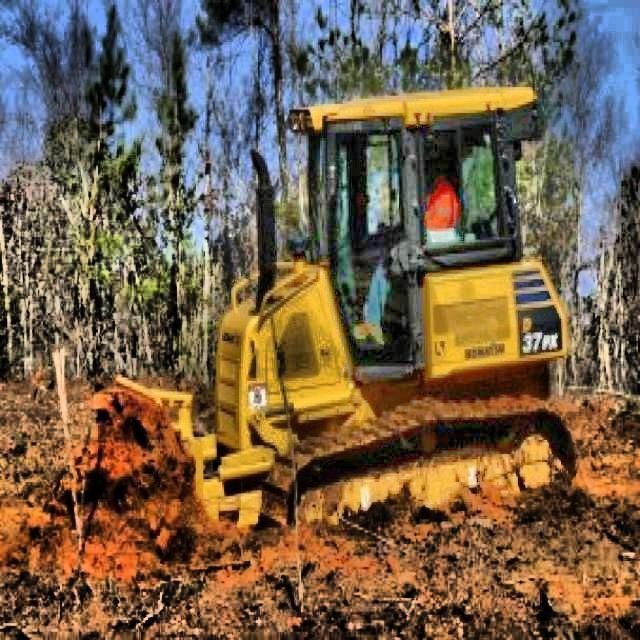bull_dozer/loader/grader: (113, 84, 578, 532)
person: (354, 141, 459, 345)
